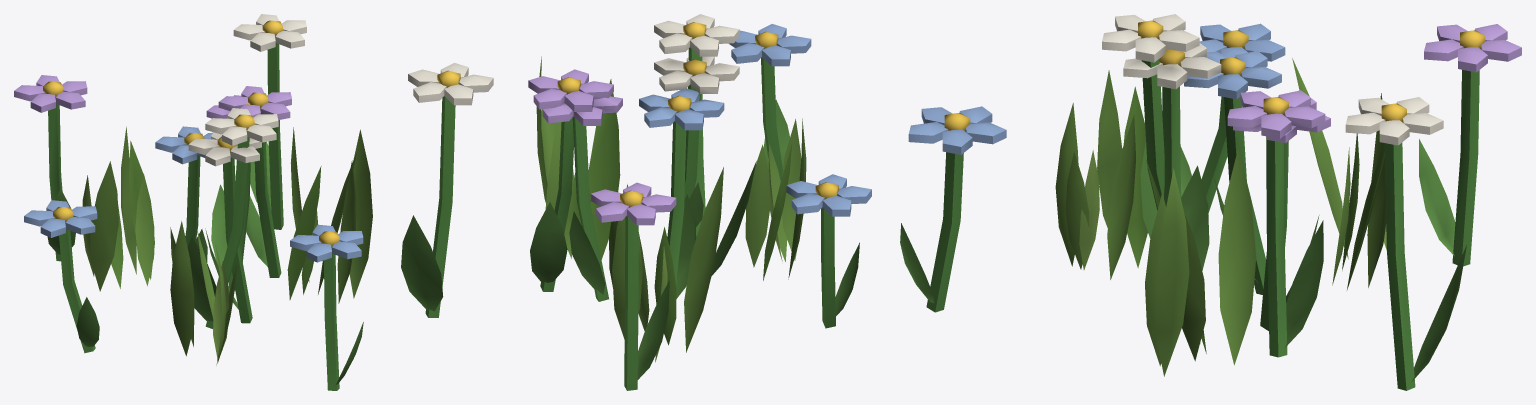
File: flower_cluster_blue.glb
3 renders of one model, left to right at view 1: azimuth 30°, elevation 25°; view 2: azimuth 150°, elevation 25°; view 3: azimuth 270°, elevation 25°, orthographic. The views are drawn at different scales.
Visible parts, largest first — view 1: Flowers; view 2: Flowers; view 3: Flowers.
Boxes of the visible parts, <box> form: Flowers: <box>14,14,372,390</box>; Flowers: <box>401,14,871,390</box>; Flowers: <box>900,14,1521,390</box>.
Bounding box in the file's own units: 0.6818 × 0.4263 × 0.8411.
